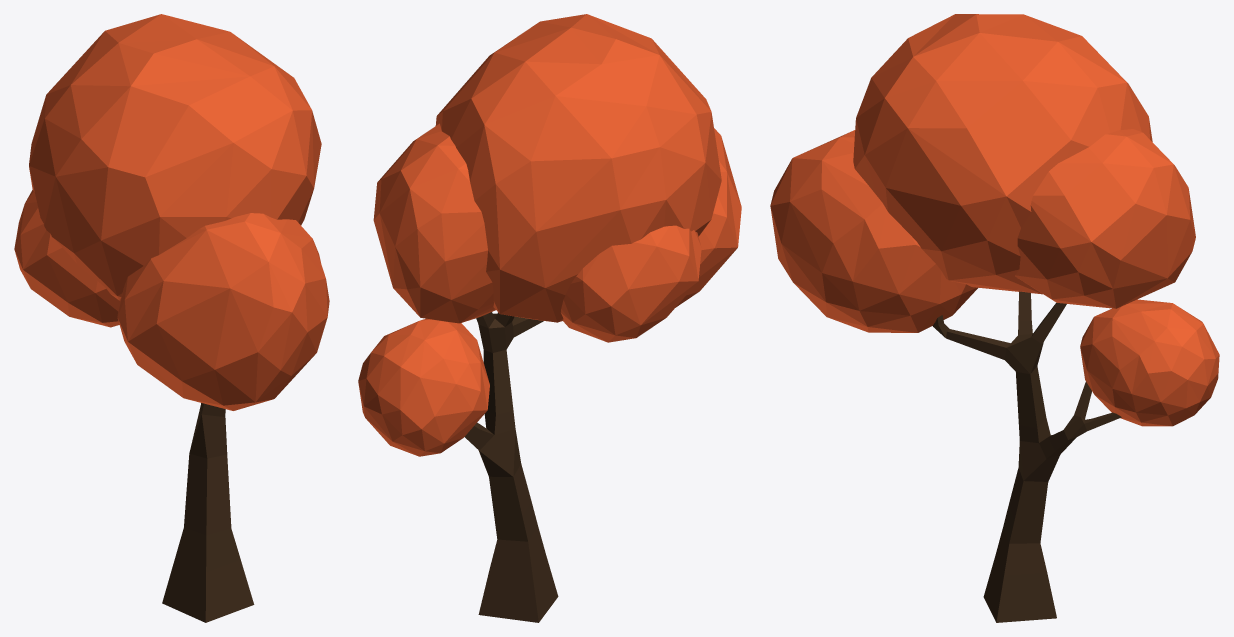
Rendered from tree2.fbx.
3 renders of one model, left to right at view 1: azimuth 30°, elevation 25°; view 2: azimuth 150°, elevation 25°; view 3: azimuth 270°, elevation 25°, orthographic. The views are drawn at different scales.
Parts seen in each view (by area): view 1: T3, T4, T6, T5; view 2: T3, T2, T1, T6, T5, T4; view 3: T3, T2, T4, T6, T1.
Part boxes in pixels (<box>): T3: <box>29,14,321,300</box>; T4: <box>117,213,329,410</box>; T6: <box>162,403,254,622</box>; T5: <box>14,190,119,327</box>; T3: <box>435,14,721,322</box>; T2: <box>373,123,495,323</box>; T1: <box>358,318,489,456</box>; T6: <box>465,312,558,622</box>; T5: <box>560,225,701,342</box>; T4: <box>675,128,741,307</box>; T3: <box>853,14,1152,294</box>; T2: <box>1015,129,1195,308</box>; T4: <box>770,130,978,332</box>; T6: <box>933,291,1121,622</box>; T1: <box>1080,299,1219,426</box>.
Size of the model in its own units: 1205 by 2310 by 1680.
